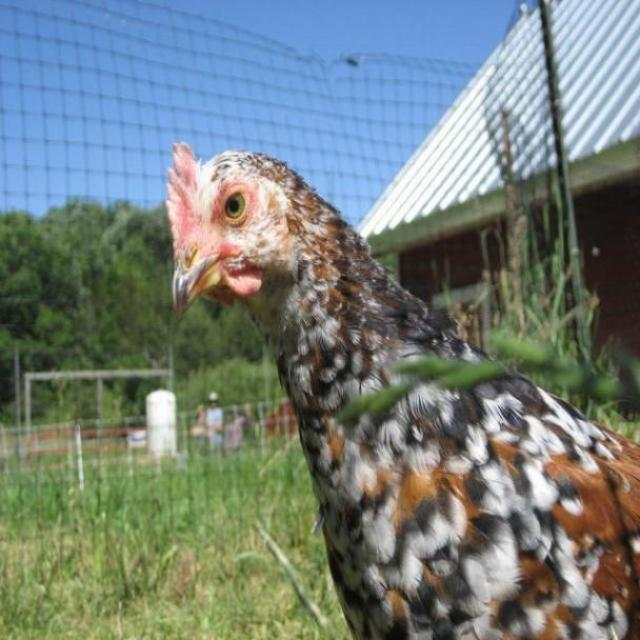Chicken: (170, 136, 640, 630)
